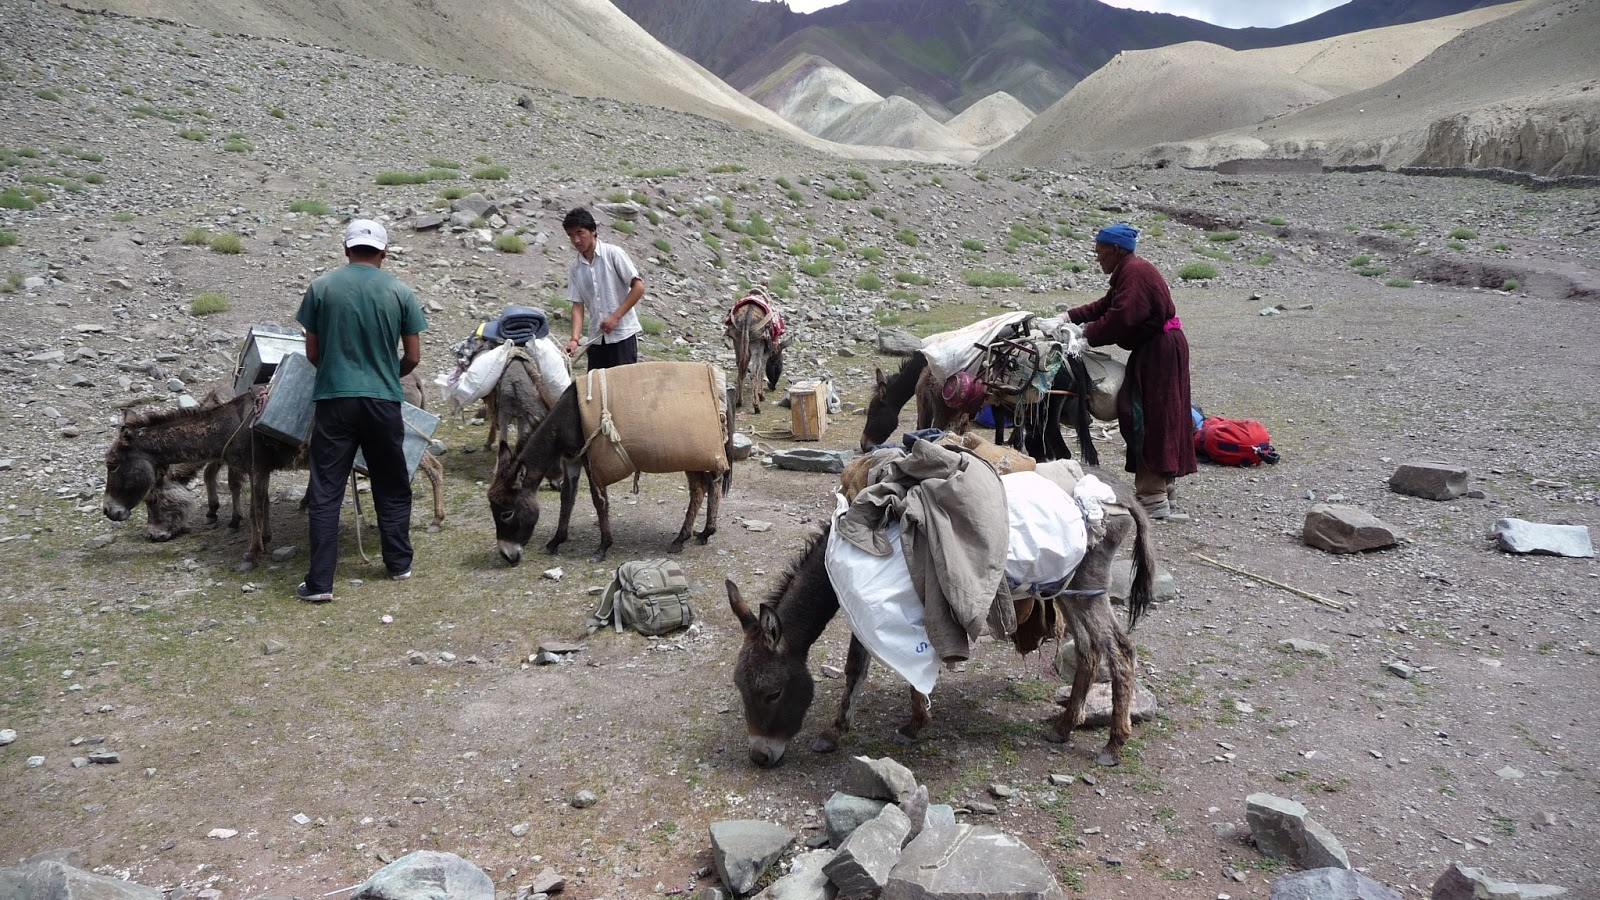equine: (712, 427, 1195, 789), (76, 368, 505, 576), (461, 352, 776, 568), (838, 316, 1127, 474), (699, 266, 800, 417)
human: (267, 211, 470, 616), (1061, 211, 1234, 539), (544, 189, 662, 392)
